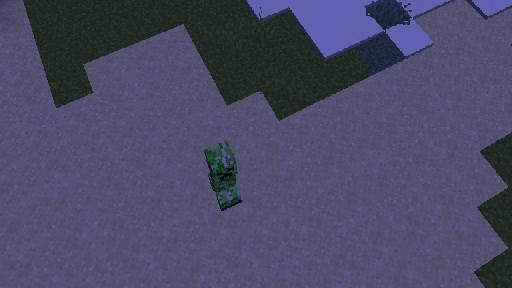creeper: (203, 139, 241, 211)
